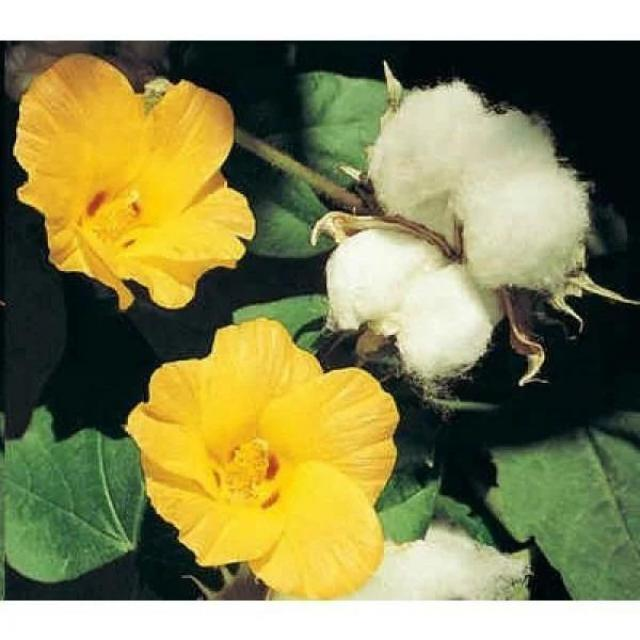Leaf: (318, 67, 607, 387)
